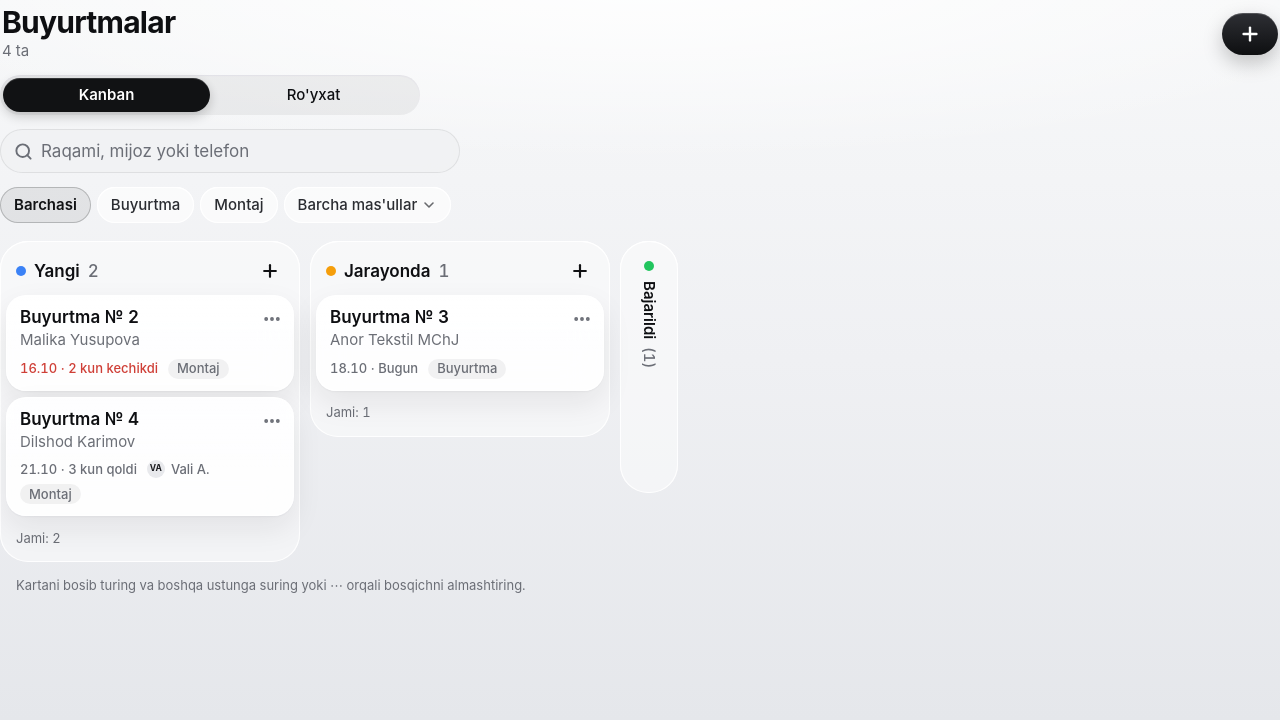
Test case: a move the API refuses puts the card back and says why; the stages are asked for again
Click the button named "Bosqich: Buyurtma № 2". click: (272, 319)
box: [252, 299, 292, 339]
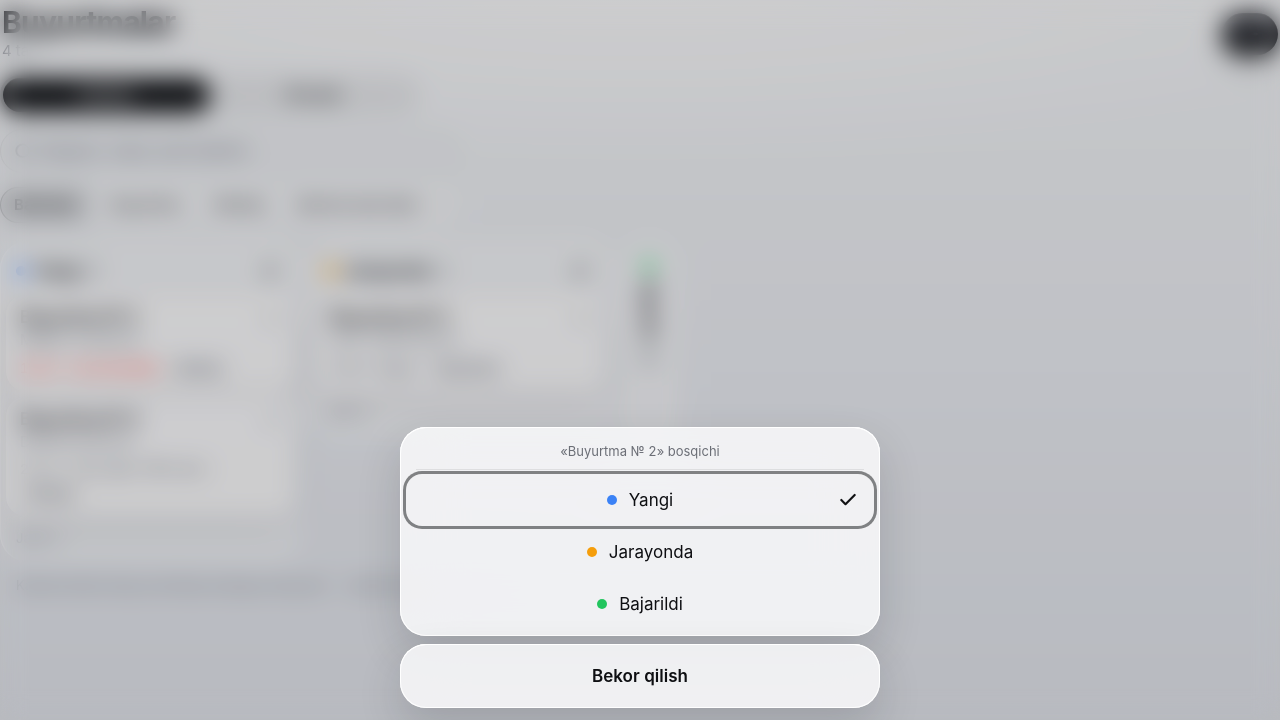
Click the menu item "Bajarildi". click: (640, 604)
box: [406, 578, 874, 630]
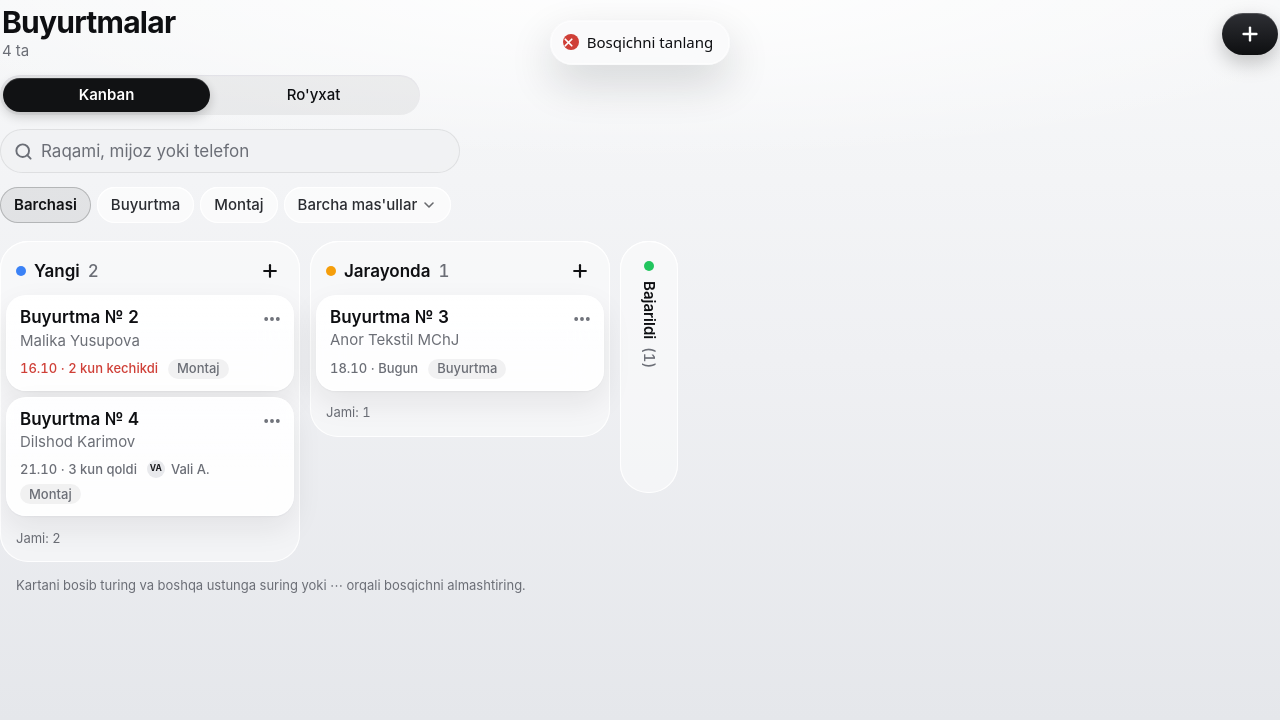
Expected: the button "Bajarildi (1)" is shown, [626, 247, 672, 487]
Expected: the text "Bosqichni tanlang" is shown, [587, 31, 713, 54]
